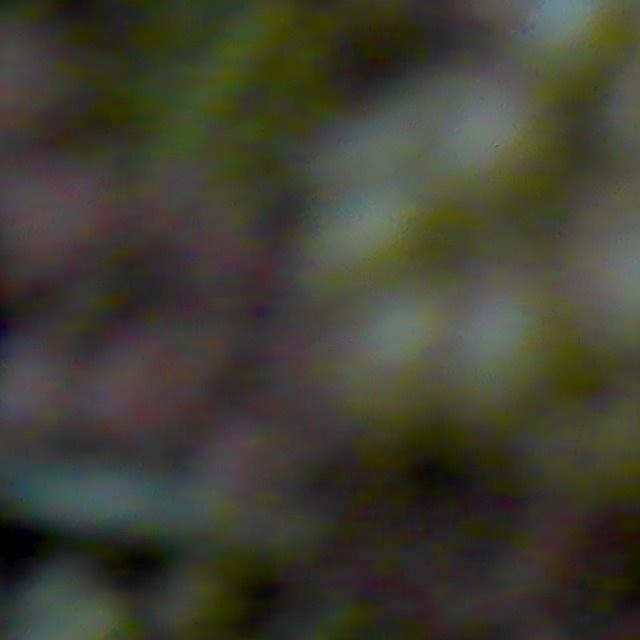SeaGrape: (433, 251, 558, 419), (81, 330, 210, 478), (206, 393, 330, 545), (426, 84, 547, 205), (318, 104, 448, 215), (0, 178, 106, 297), (301, 209, 411, 316), (330, 326, 426, 426), (498, 0, 622, 77), (0, 340, 72, 454)
